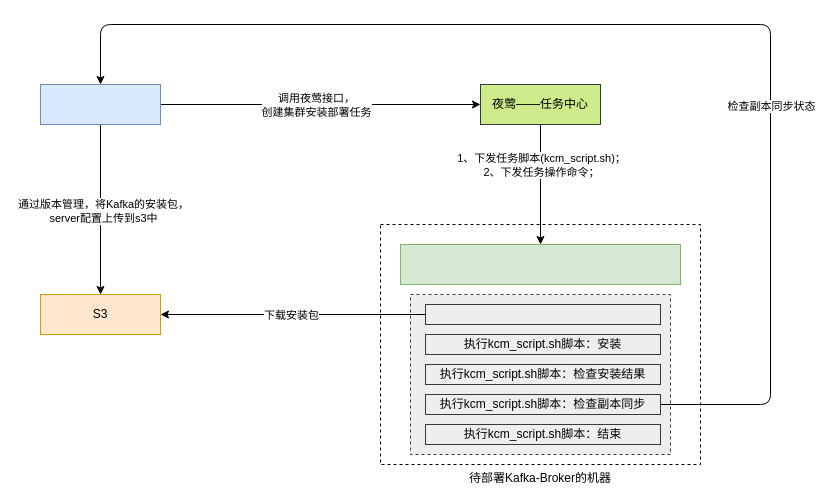
Image size: 832x503. Some labels were removed from this diagram. The centre of each missing label's shape, as x and y in pixels:
LogiKM: pixel 100 104
夜莺——Agent( 代理执行kcm_script.sh脚本 ): pixel 540 264
执行kcm_script.sh脚本：下载安装包: pixel 542 314
